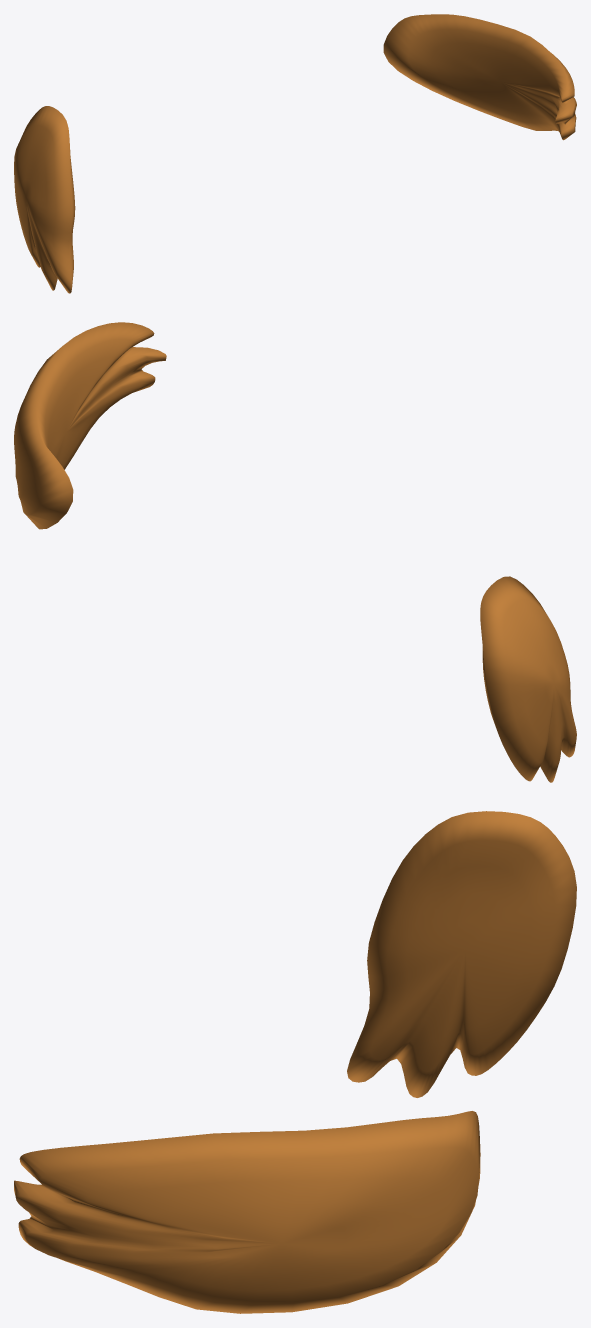
Rendered from species-grips-duck-aim_up-only.glb.
3 views of the same model, one above another, from view 1: azimuth 30°, elevation 25°; view 2: azimuth 150°, elevation 25°; view 3: azimuth 270°, elevation 25° (orthographic). The views are drawn at different scales.
Parts seen in each view (by area): view 1: duck_rightArm_mesh, duck_leftArm_mesh; view 2: duck_rightArm_mesh, duck_leftArm_mesh; view 3: duck_rightArm_mesh, duck_leftArm_mesh.
Boxes of the visible parts, x1=… form: duck_rightArm_mesh: x1=383, y1=14, x2=576, y2=140; duck_leftArm_mesh: x1=14, y1=106, x2=75, y2=293; duck_rightArm_mesh: x1=14, y1=322, x2=166, y2=529; duck_leftArm_mesh: x1=480, y1=576, x2=576, y2=782; duck_rightArm_mesh: x1=14, y1=1111, x2=480, y2=1313; duck_leftArm_mesh: x1=347, y1=811, x2=576, y2=1097.
Bounding box in the file's own units: 1.21 × 0.4801 × 0.6742.
